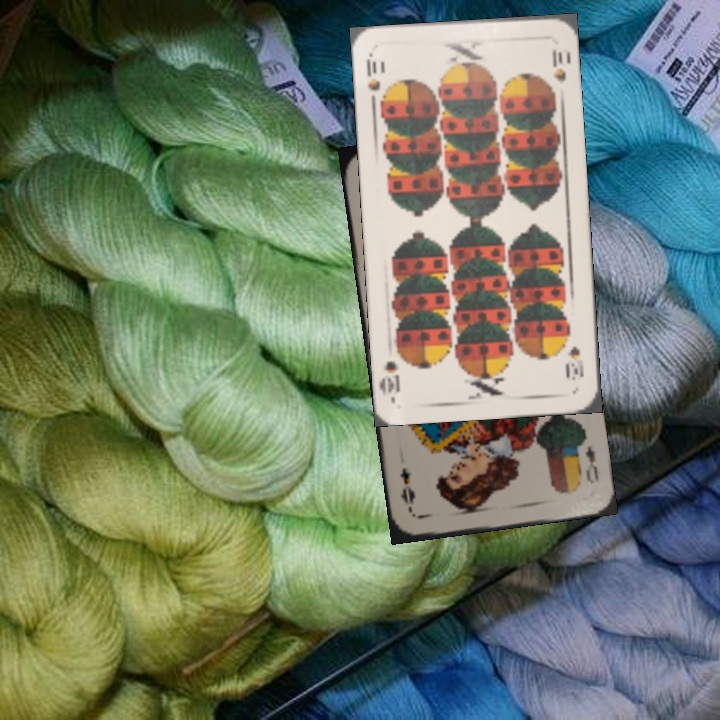EO: (581, 441, 602, 486)
S10: (362, 51, 383, 110), (563, 341, 587, 383)
